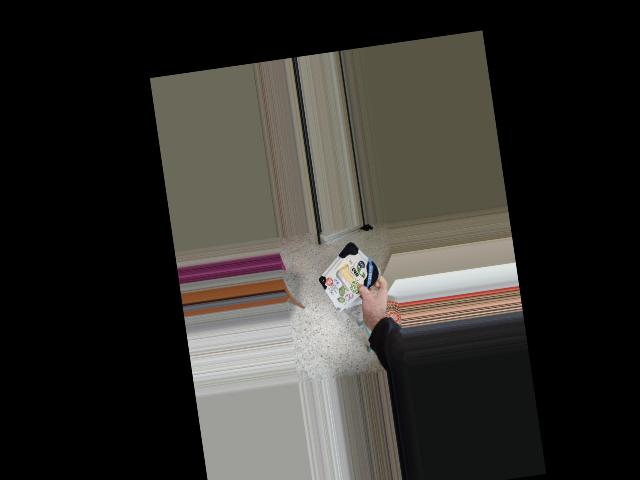cheese: (308, 240, 385, 309)
